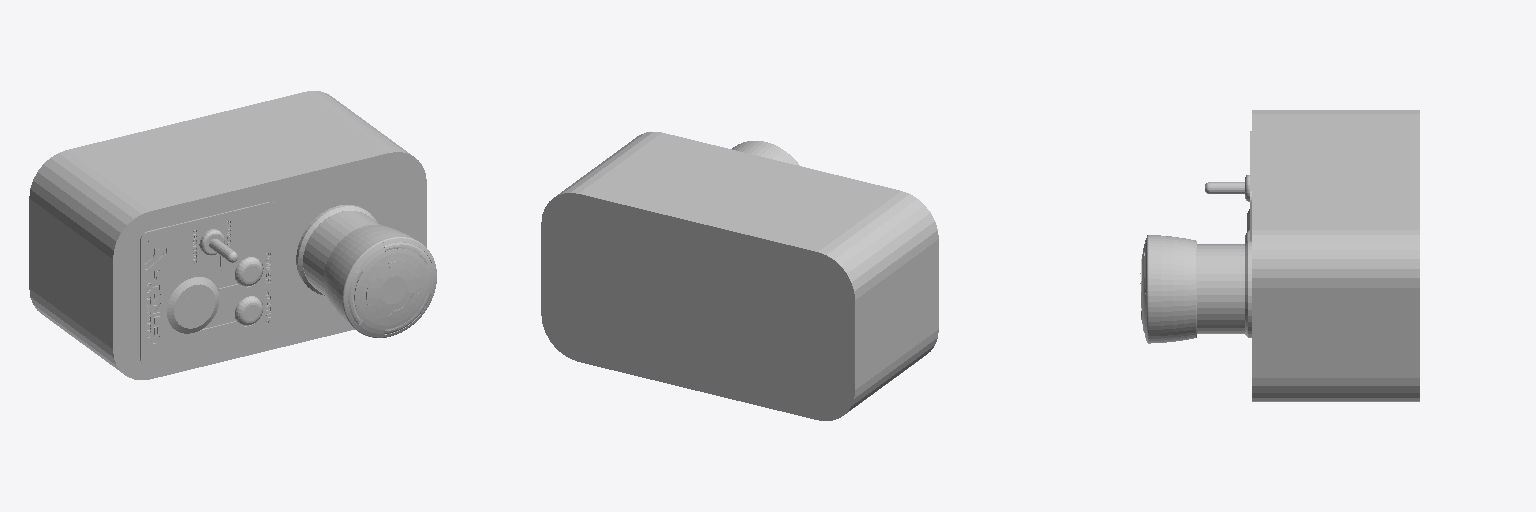
The model's file is processed_hmi_box.obj.
3 renders of one model, left to right at view 1: azimuth 30°, elevation 25°; view 2: azimuth 150°, elevation 25°; view 3: azimuth 270°, elevation 25°, orthographic.
Visible parts, largest first — view 1: hmi_box; view 2: hmi_box; view 3: hmi_box.
Boxes of the visible parts, x1,y1,x2,y2 form: hmi_box: [29, 91, 436, 379]; hmi_box: [541, 132, 938, 420]; hmi_box: [1140, 110, 1419, 401].
Size of the model in its own units: 0.1067 by 0.0546 by 0.0821.